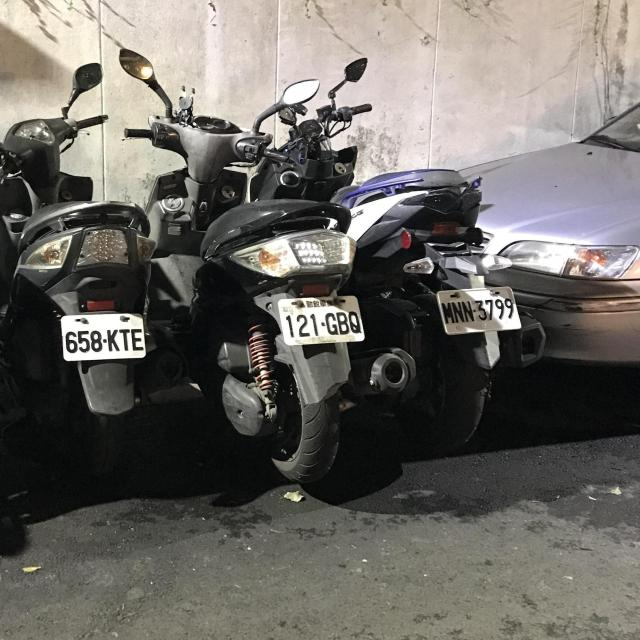W: (273, 290, 368, 349), (58, 309, 148, 364), (433, 283, 522, 337)
